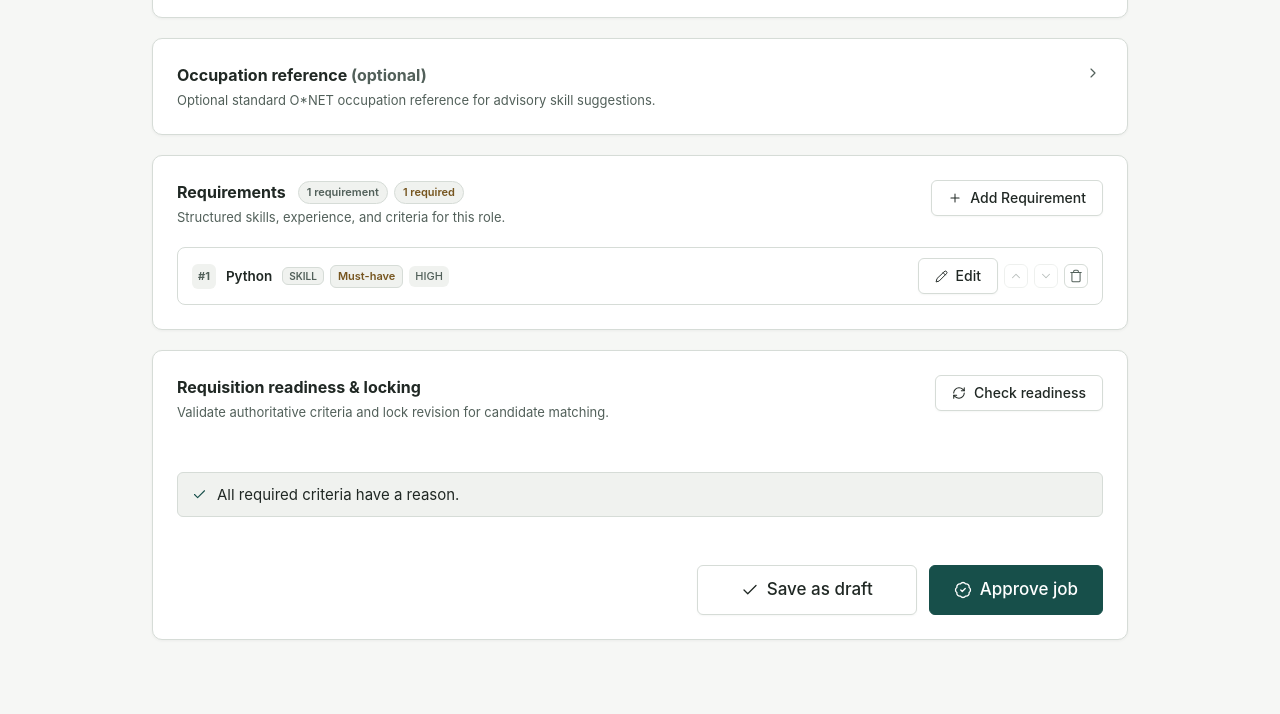
Phase 2B.3: Jobs Workspace & Requirement Builder › Phase 2B.5: Requisition Readiness & Revision Locking › locks revision as READY_FOR_MATCHING on direct approval, makes form read-only, and creates successor revision
(page scrolled)
# Direct single-step approval
What coordinates should you click on to do the following:
click the button "Approve job"
I would click on:
 (1016, 590)
Its box is [929, 565, 1103, 615].
(page scrolled)
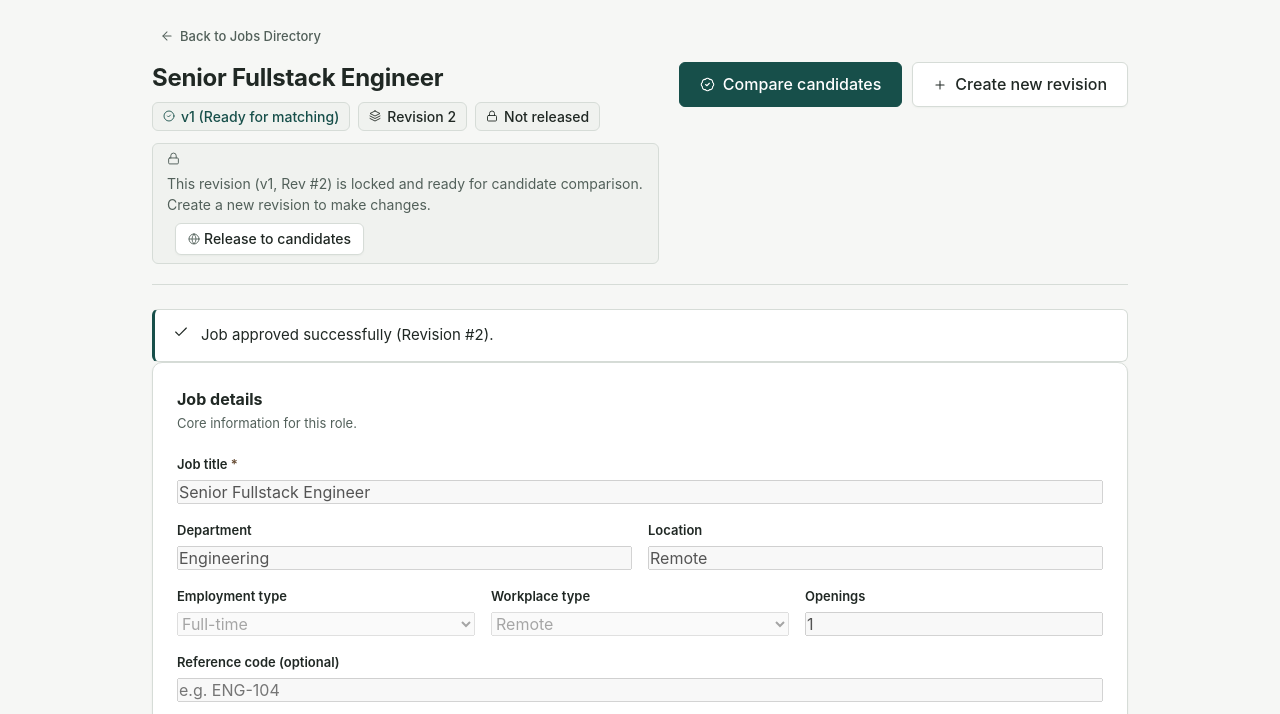
expect the text "This revision (v1, Rev #2) is locked and ready for candidate comparison." is shown: met, box [167, 173, 644, 215]
expect the text "v1 (Ready for matching)" is shown: met, box [181, 106, 339, 126]
expect the text "Job approved successfully (Revision #2)." is shown: met, box [201, 324, 494, 347]
What coordinates should you click on to do the following:
click the button "Create new revision"
I would click on:
 (1020, 84)
Its box is [912, 62, 1128, 107].
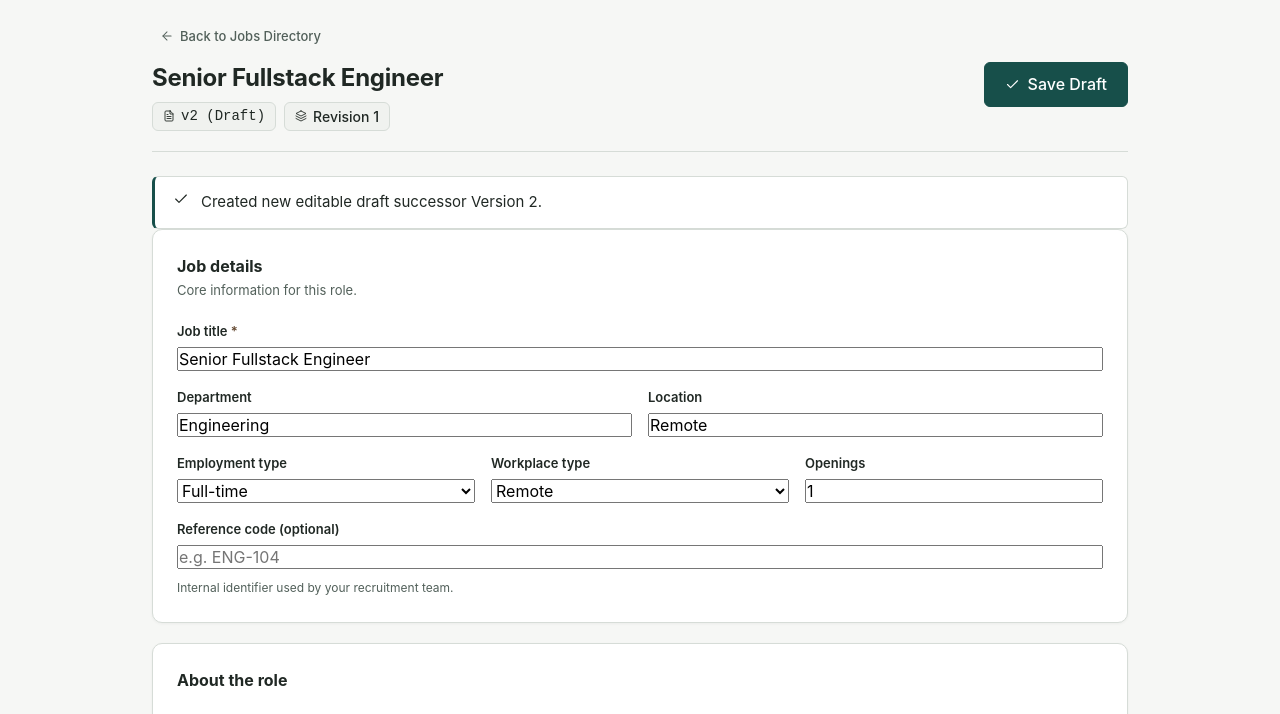
expect the text "v2 (Draft)" is shown: met, box [181, 106, 265, 126]
expect the field labelled "Job title *" is enabled: met, box [177, 347, 1103, 371]
expect the text "Save Draft" is shown: met, box [1028, 73, 1107, 96]
